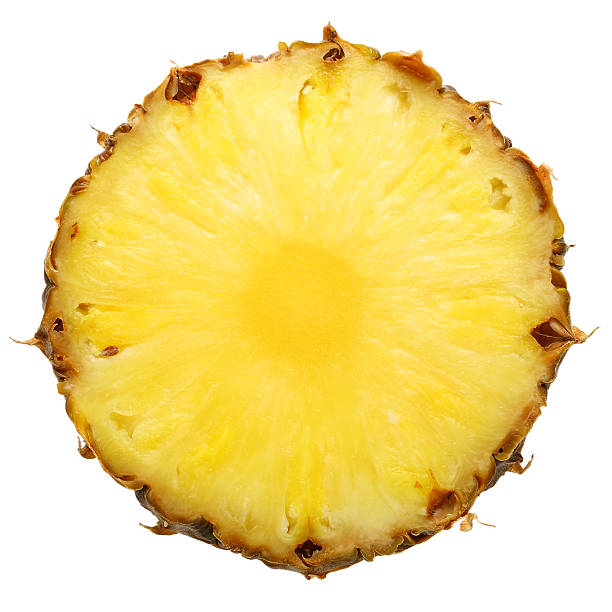pineapple: (41, 36, 602, 608)
